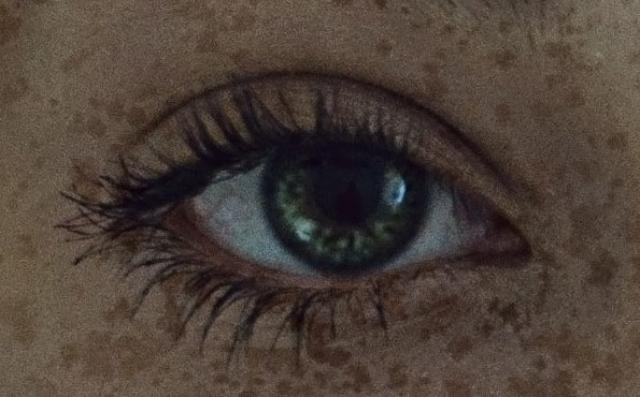eye: (262, 137, 436, 275)
